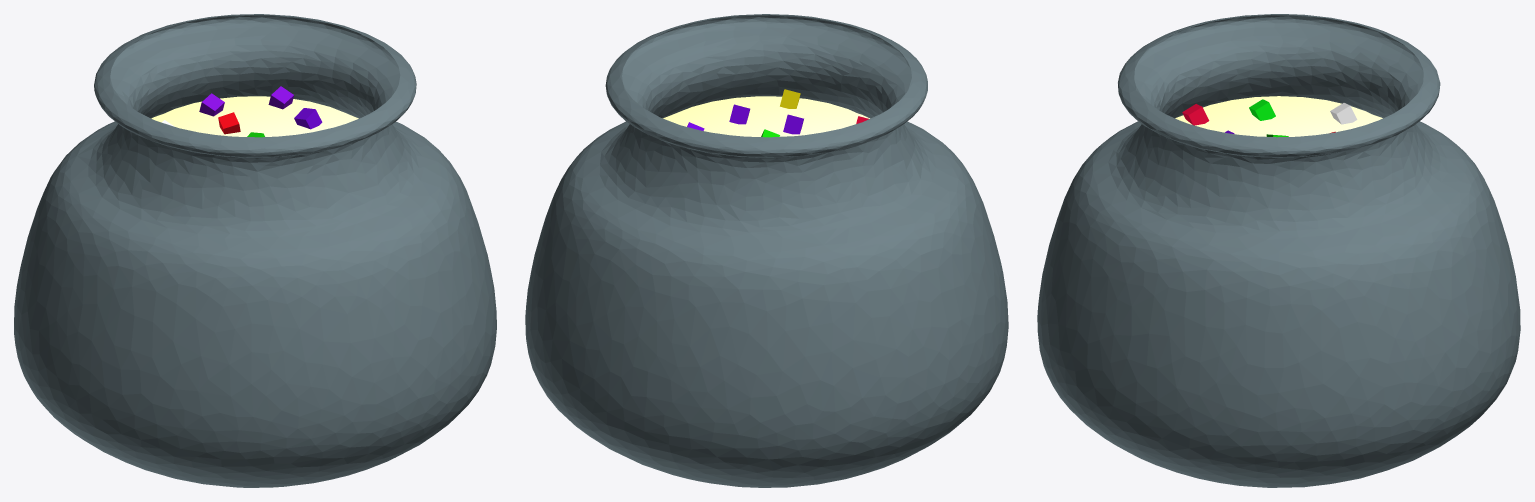
Rendered from daig 2.fbx.
3 renders of one model, left to right at view 1: azimuth 30°, elevation 25°; view 2: azimuth 150°, elevation 25°; view 3: azimuth 270°, elevation 25°, orthographic.
Visible parts, largest first — view 1: Circle, Circle.001; view 2: Circle, Circle.001; view 3: Circle, Circle.001.
Part boxes in pixels (left/top/right/bottom): Circle: left=14, top=14, right=496, bottom=487; Circle.001: left=151, top=86, right=358, bottom=137; Circle: left=525, top=14, right=1008, bottom=487; Circle.001: left=663, top=89, right=869, bottom=137; Circle: left=1037, top=14, right=1520, bottom=487; Circle.001: left=1175, top=96, right=1382, bottom=137.
Size of the model in its own units: 402 by 343 by 402.
